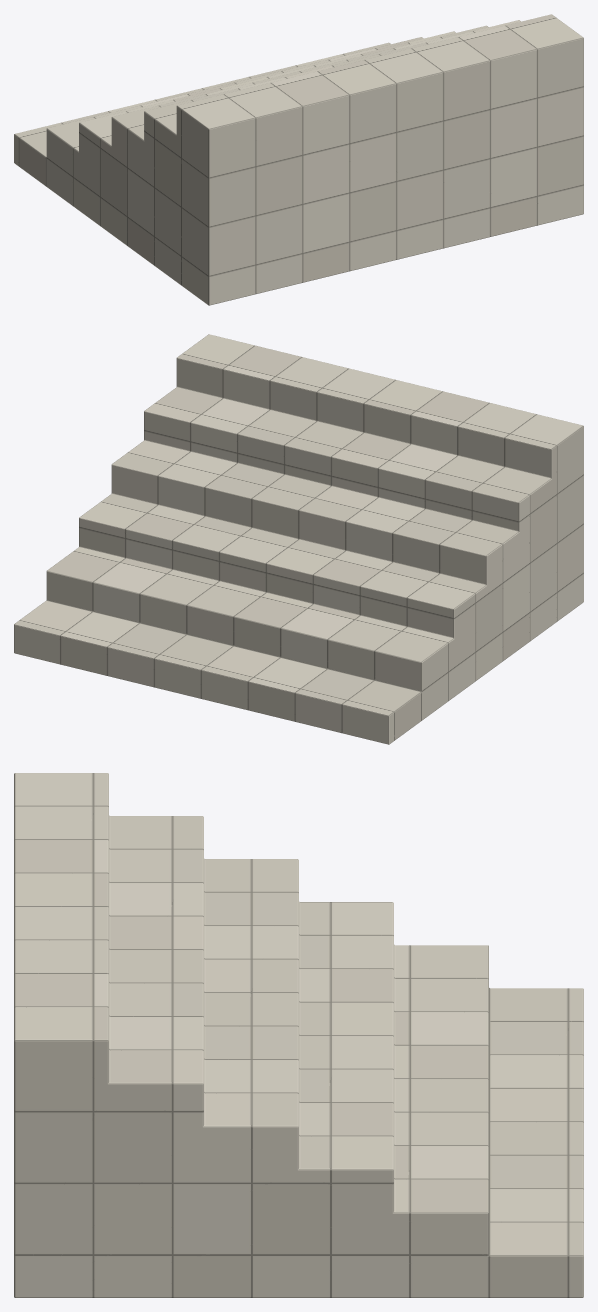
The model's file is MOD_27_Stairs_Submerged.glb.
The picture shows the model from 3 angles, top to bottom: view 1: azimuth 30°, elevation 25°; view 2: azimuth 150°, elevation 25°; view 3: azimuth 270°, elevation 25°; orthographic projection. The views are drawn at different scales.
Parts seen in each view (by area): view 1: MOD_27_Stairs_Submerged_Export; view 2: MOD_27_Stairs_Submerged_Export; view 3: MOD_27_Stairs_Submerged_Export.
Boxes of the visible parts, left/top/right/bottom form: MOD_27_Stairs_Submerged_Export: left=14, top=14, right=583, bottom=305; MOD_27_Stairs_Submerged_Export: left=14, top=334, right=583, bottom=744; MOD_27_Stairs_Submerged_Export: left=14, top=773, right=583, bottom=1297.
Size of the model in its own units: 2 by 0.9 by 1.8.
1 material, 1 textured.
